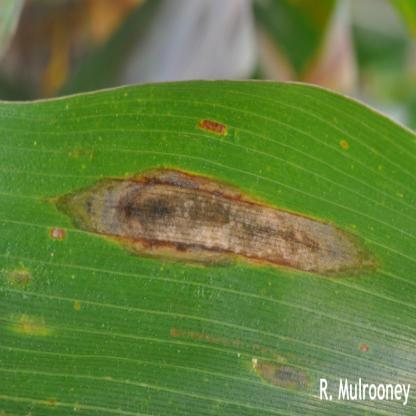corn leaf blight: (1, 91, 416, 365)
